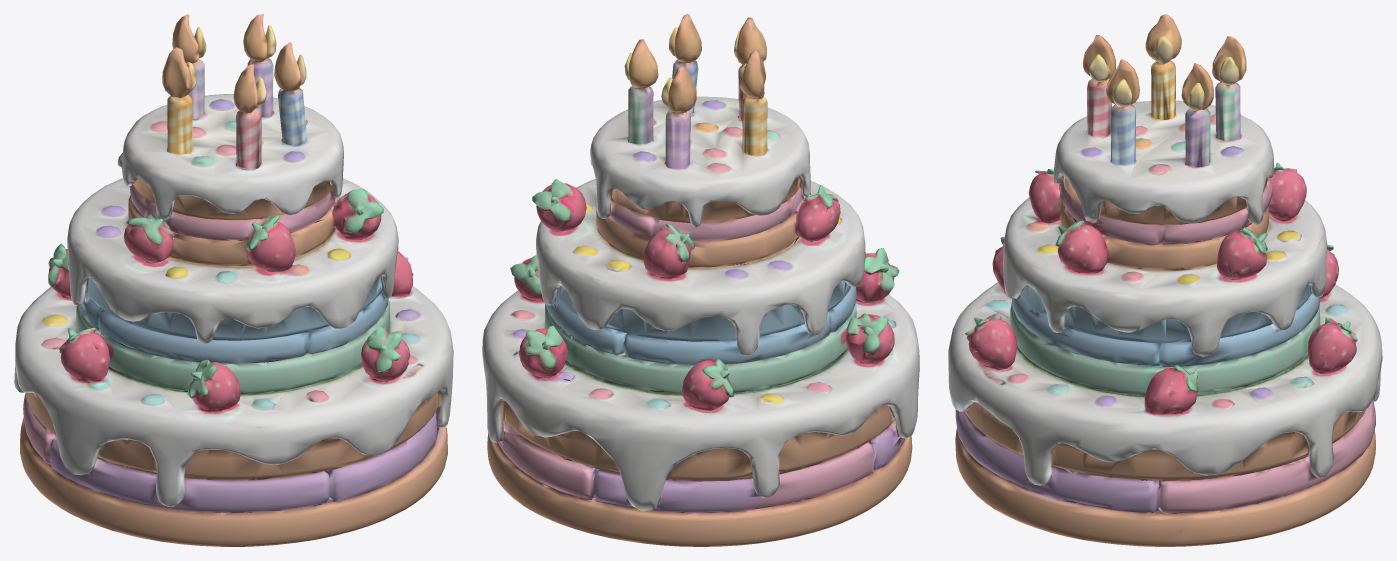
The picture shows the model from 3 angles, left to right: view 1: azimuth 30°, elevation 25°; view 2: azimuth 150°, elevation 25°; view 3: azimuth 270°, elevation 25°; orthographic projection.
Visible parts, largest first — view 1: repaired; view 2: repaired; view 3: repaired.
Part boxes in pixels (x1,y1,x2,y2): repaired: (14,14,453,546); repaired: (482,14,919,546); repaired: (948,14,1382,546).
Bounding box in the file's own units: 0.9394 × 1 × 0.9378.
1 material, 1 textured.
